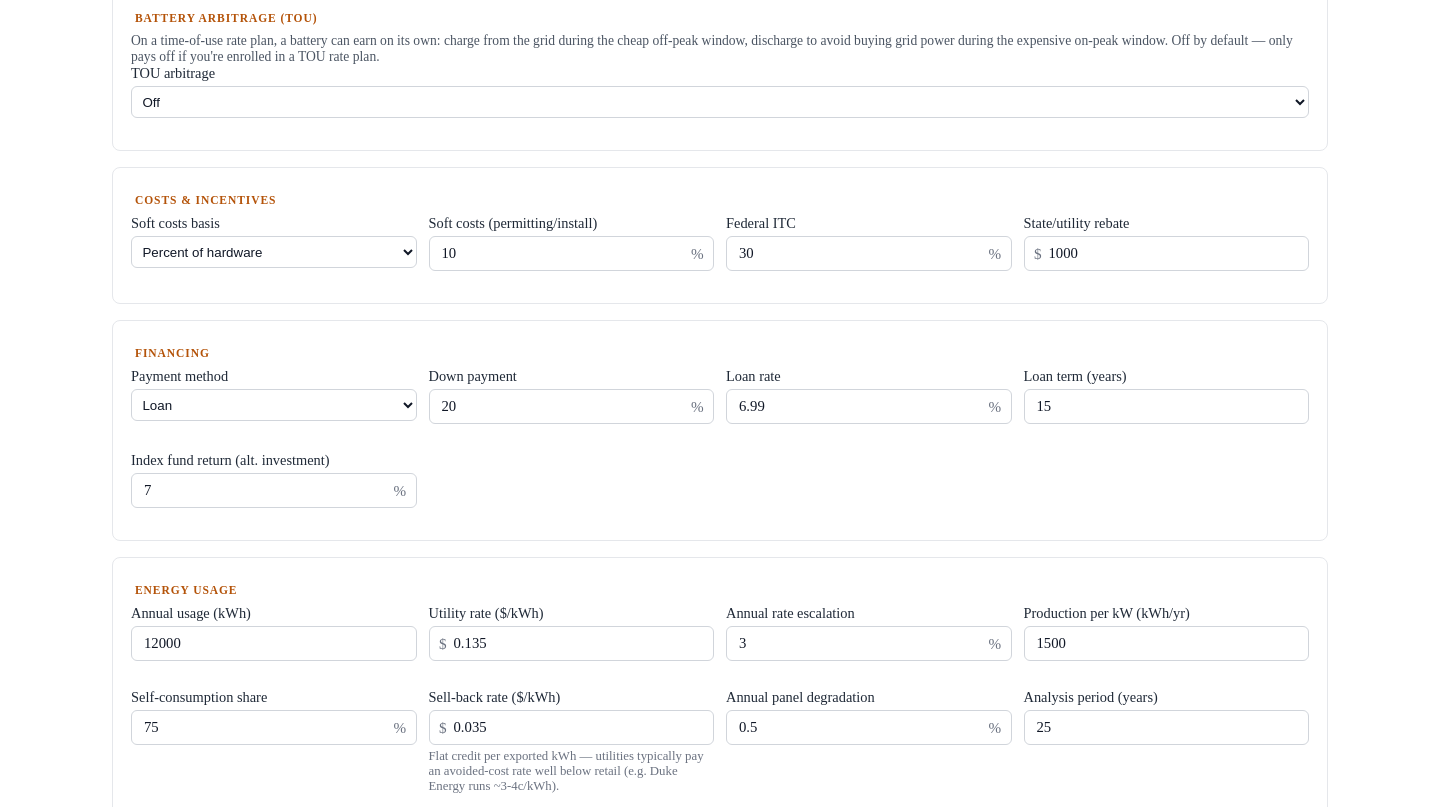
Test: <SolarBatteryComponent /> › hides loan-only fields when payment method is Cash
(page scrolled)
Expected: the number field labelled "Down payment" is shown, [428,389,714,424]
Expected: the number field labelled "Loan rate" is shown, [726,389,1012,424]
Select "Cash" in the dropdown labelled "Payment method" at (274, 405), box [131,389,416,421]
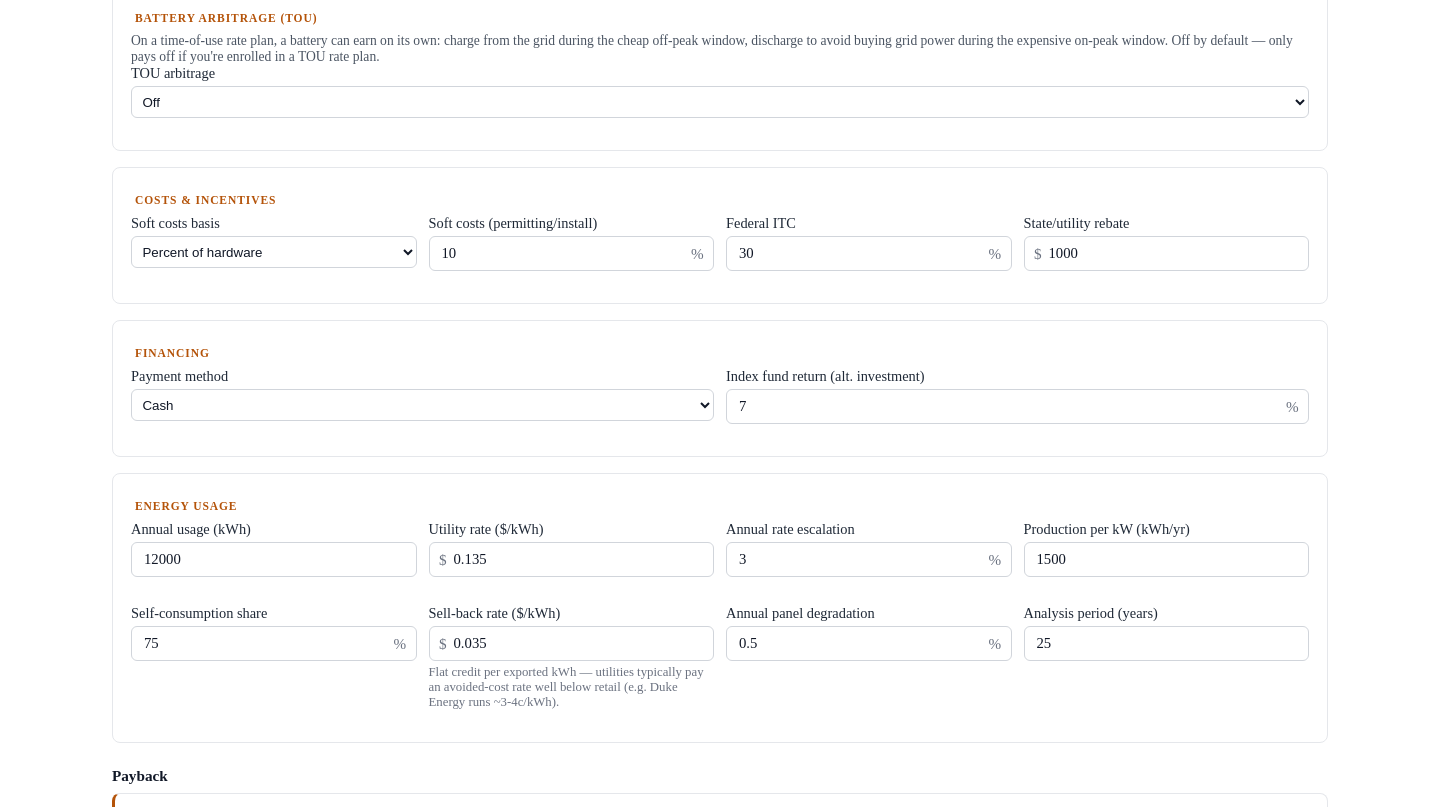
Expected: the label labelled "Down payment" is gone
Expected: the label labelled "Loan rate" is gone
Expected: the label labelled "Loan term" is gone
